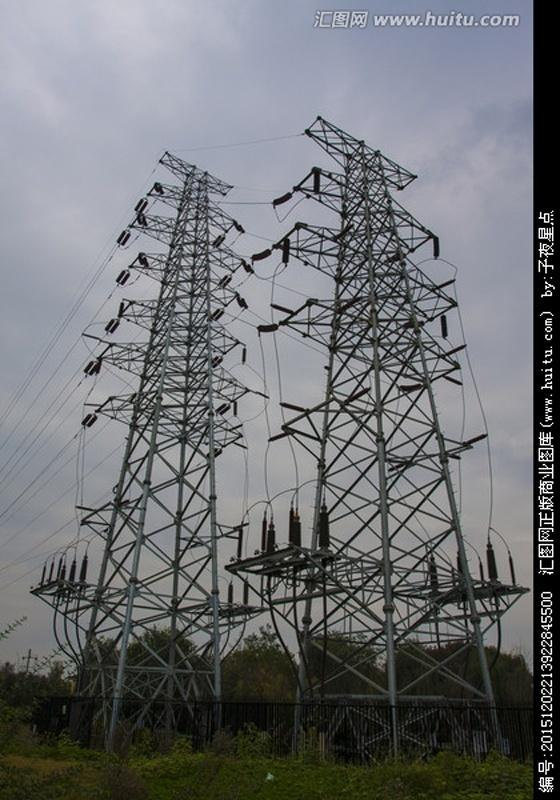power_tower: (245, 109, 526, 757), (61, 142, 255, 748)
